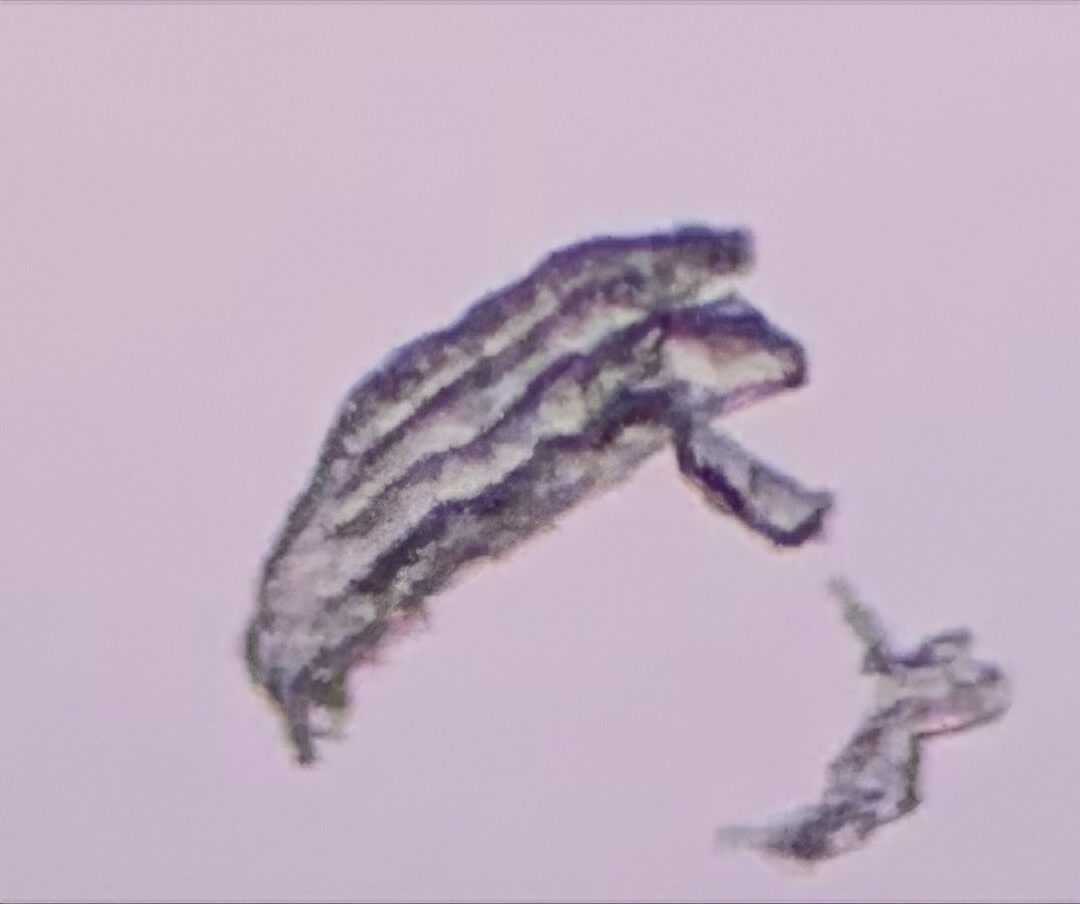microplastic: (235, 219, 835, 771), (714, 573, 1013, 881)
